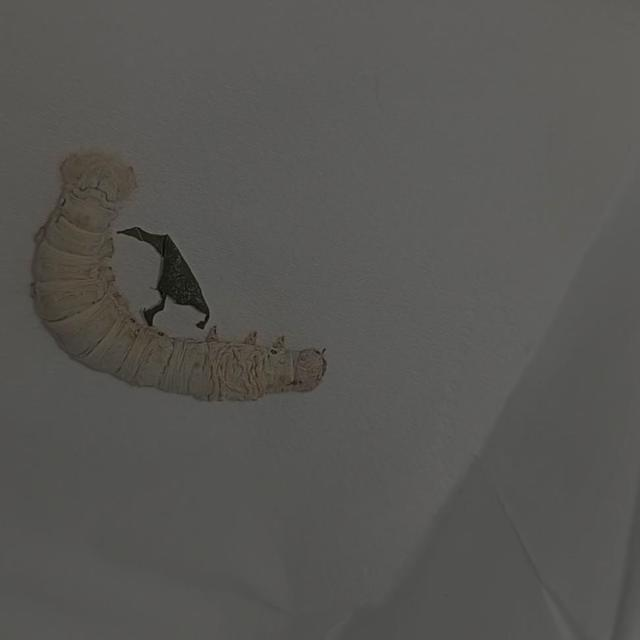Healthy: (16, 131, 348, 423)
